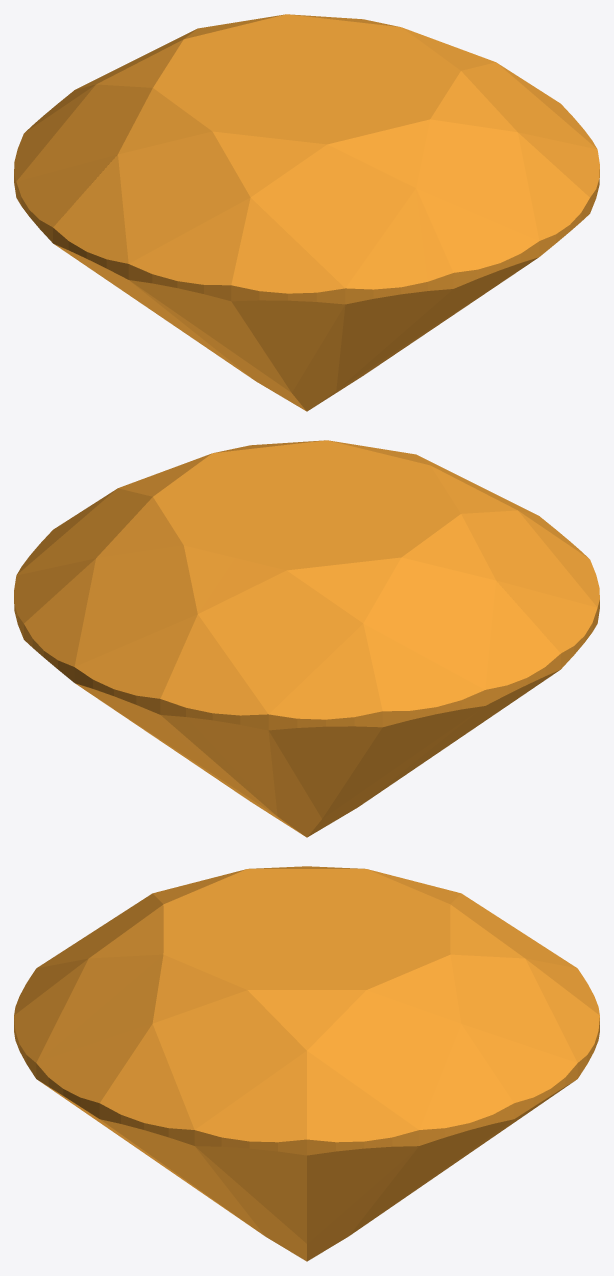
Rendered from RoundSpessGarnet.glb.
3 views of the same model, one above another, from view 1: azimuth 30°, elevation 25°; view 2: azimuth 150°, elevation 25°; view 3: azimuth 270°, elevation 25° (orthographic).
Parts seen in each view (by area): view 1: new twist dia for 3d model; view 2: new twist dia for 3d model; view 3: new twist dia for 3d model.
Boxes of the visible parts, x1,y1,x2,y2 form: new twist dia for 3d model: [14, 14, 599, 411]; new twist dia for 3d model: [14, 440, 599, 837]; new twist dia for 3d model: [14, 866, 599, 1261].
Bounding box in the file's own units: 7.45 × 4.66 × 7.45.
